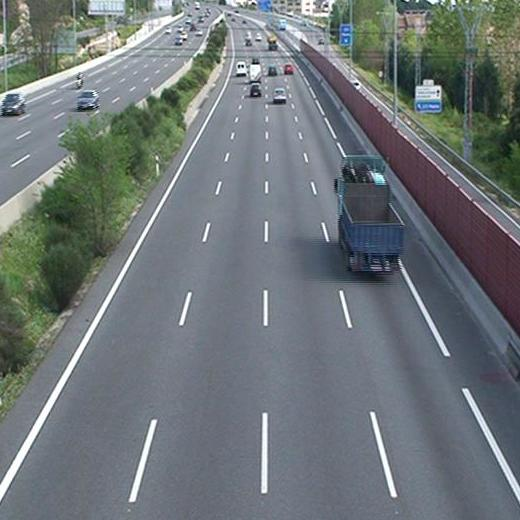car: (272, 88, 288, 103), (250, 82, 262, 96), (267, 65, 278, 77), (284, 63, 295, 75)
small-truck: (330, 153, 406, 276)
van: (249, 63, 263, 84), (234, 61, 247, 76)
